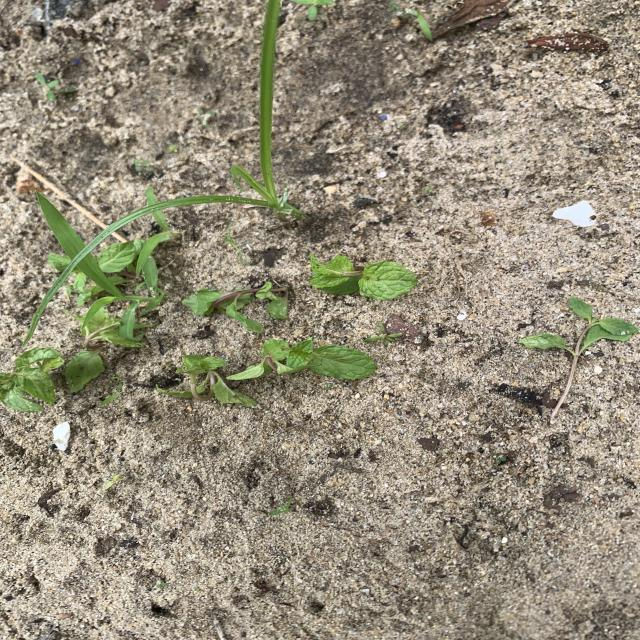crop: (519, 297, 640, 419), (64, 307, 143, 385), (236, 339, 377, 380), (182, 281, 288, 331), (156, 355, 256, 407), (310, 255, 418, 300), (0, 347, 65, 412), (97, 240, 144, 273)
weed: (36, 0, 305, 315), (76, 253, 168, 338), (142, 213, 181, 263), (390, 3, 433, 42), (35, 72, 74, 105), (222, 227, 252, 267), (364, 321, 403, 346), (292, 0, 335, 20), (133, 158, 154, 174), (167, 144, 180, 154), (244, 244, 249, 249)
